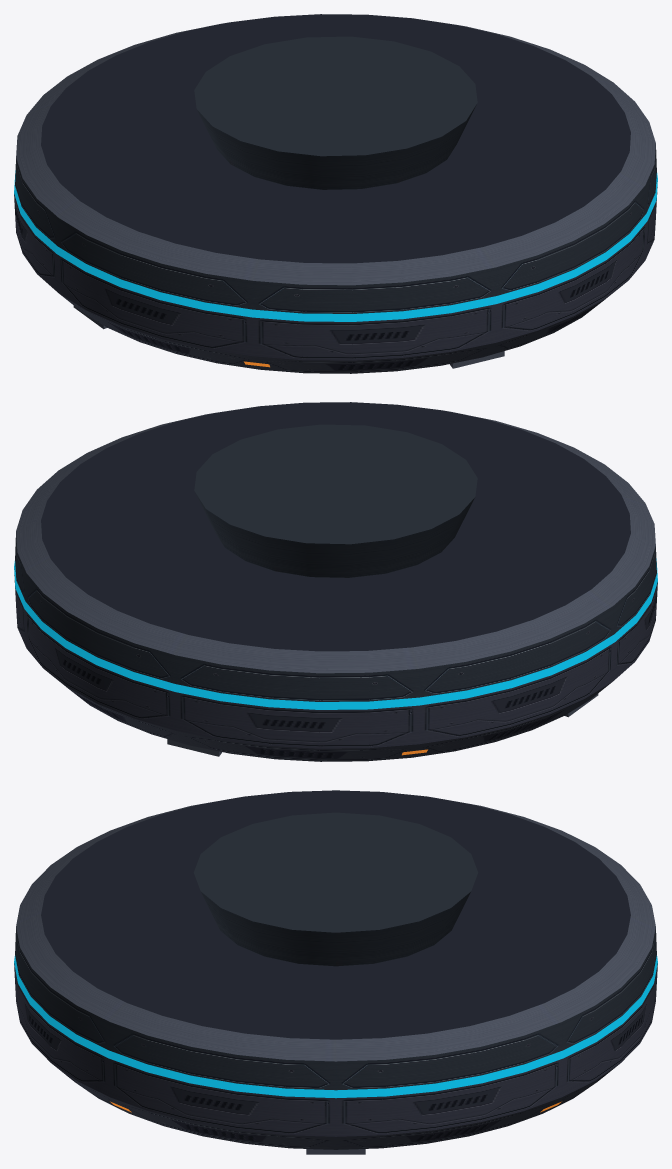
File: ceiling-lamp-v1.glb
3 renders of one model, top to bottom at view 1: azimuth 30°, elevation 25°; view 2: azimuth 150°, elevation 25°; view 3: azimuth 270°, elevation 25°, orthographic.
Parts seen in each view (by area): view 1: ceiling_lamp_body, ceiling_lamp_light; view 2: ceiling_lamp_body, ceiling_lamp_light; view 3: ceiling_lamp_body, ceiling_lamp_light.
Part boxes in pixels (x1,y1,x2,y2): ceiling_lamp_body: (14,14,657,373); ceiling_lamp_light: (14,170,657,367); ceiling_lamp_body: (14,402,657,761); ceiling_lamp_light: (14,558,657,755); ceiling_lamp_body: (14,790,657,1154); ceiling_lamp_light: (14,955,657,1112).
Size of the model in its own units: 0.9715 by 0.2703 by 0.9715.
2 materials, 2 textured.
